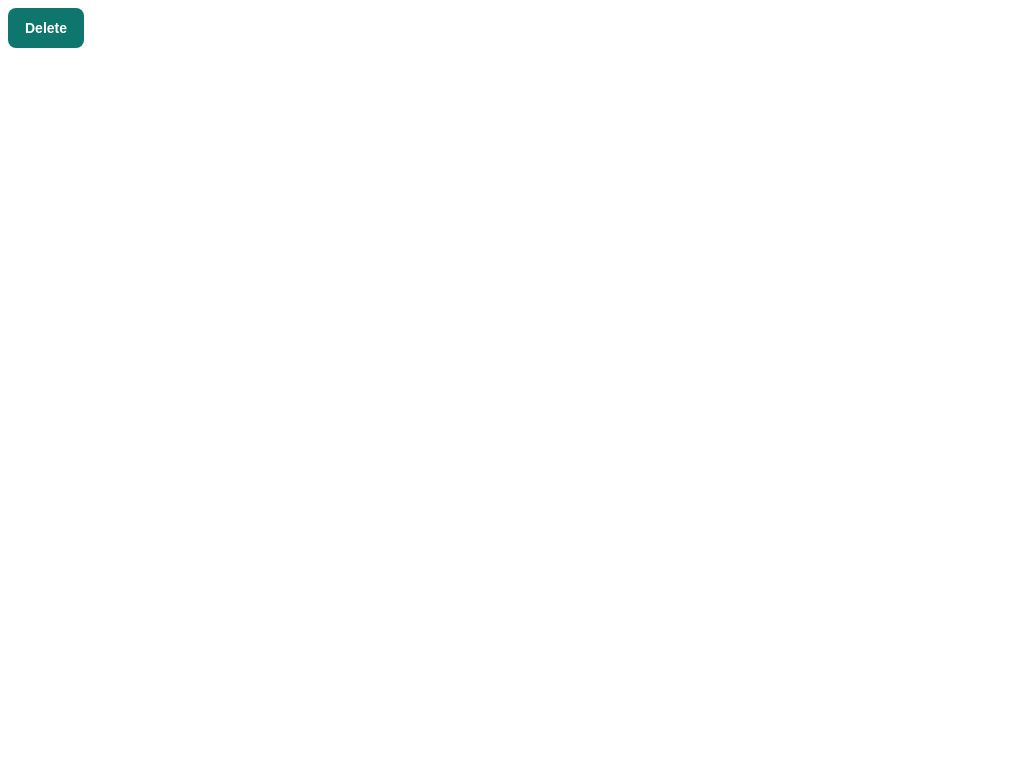
Test: modal behavior › keeps an alert dialog open when the consumer prevents a failed action
The image size is (1024, 768).
Click the button "Delete" at [46, 28], box x1=8 y1=8 x2=84 y2=48
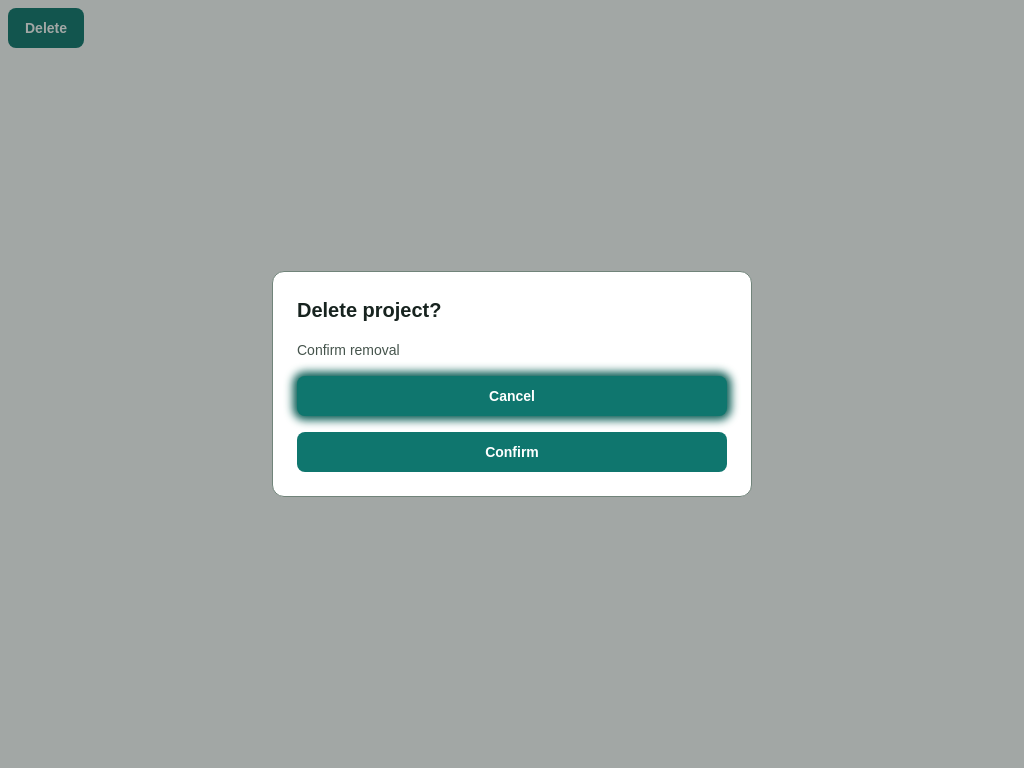
Click the button "Confirm" at [512, 452], box x1=297 y1=432 x2=727 y2=472
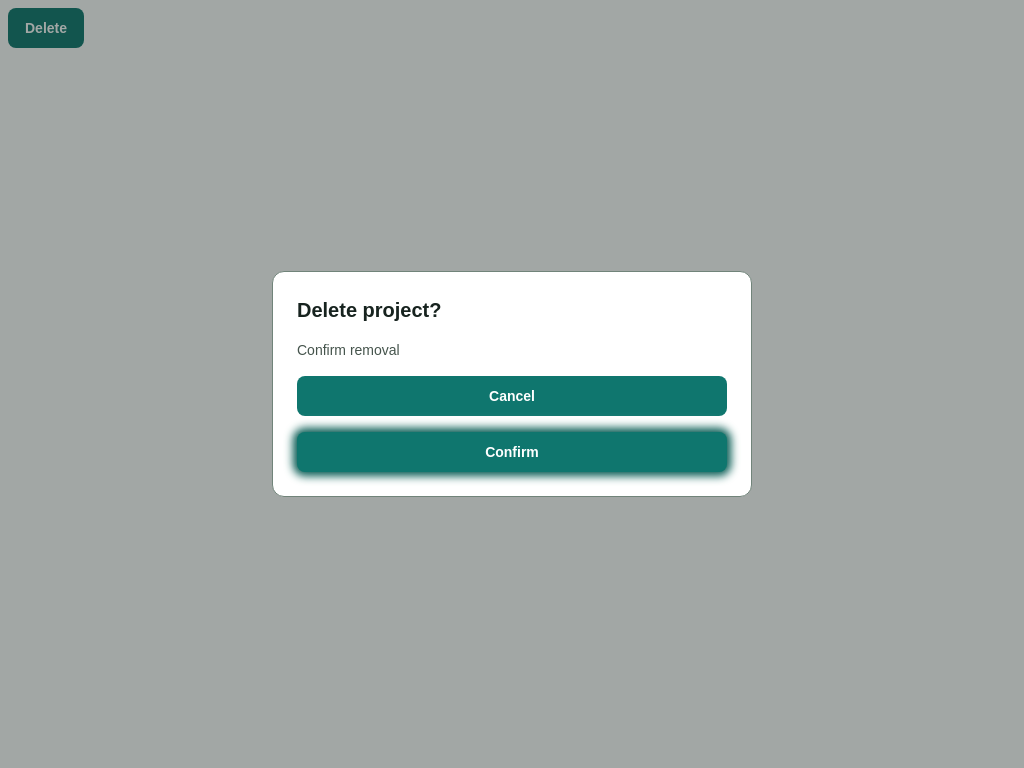
Check: the dialog is shown, box x1=272 y1=271 x2=752 y2=497
Click the button "Cancel" at [512, 396], box x1=297 y1=376 x2=727 y2=416
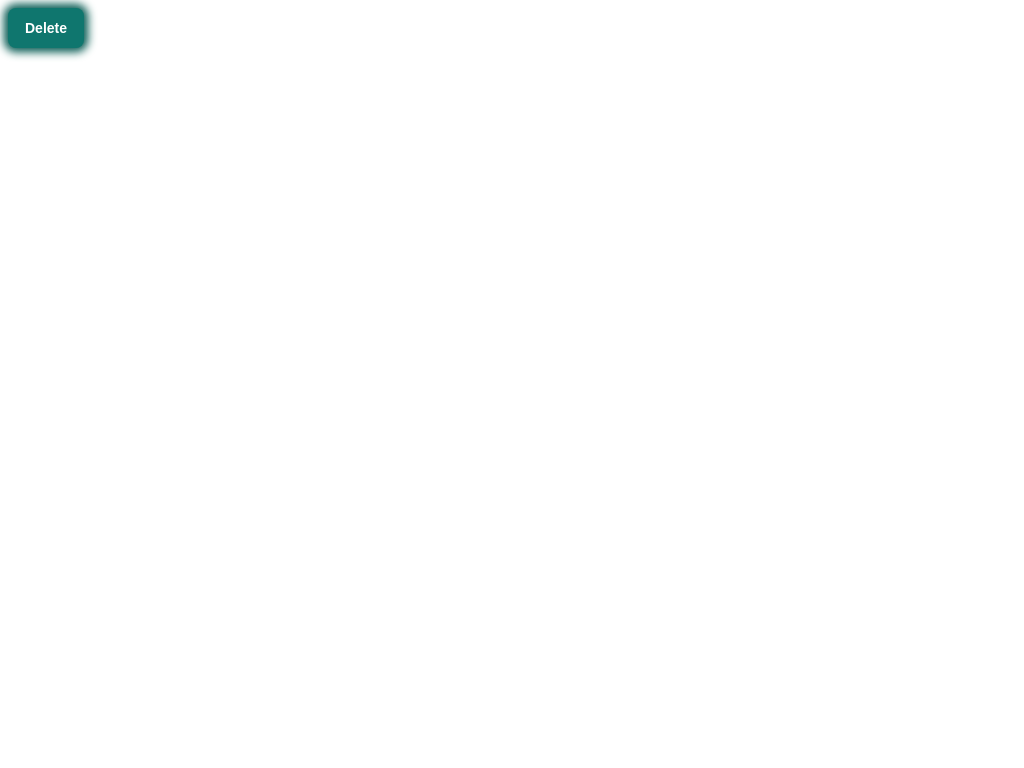
Check: the dialog is gone
